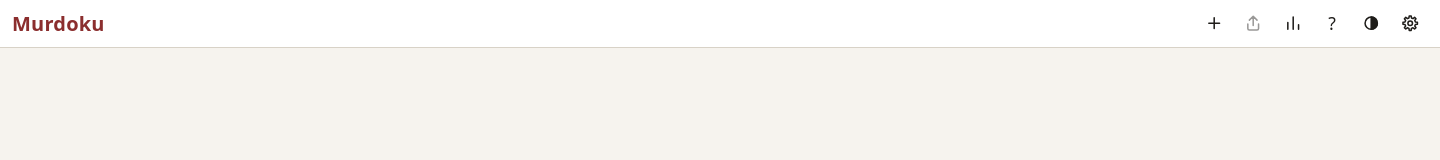
Test case: theme toggle › cycles system, light, dark, system through the store settings
The image size is (1440, 160).
Click the button with test id "theme-toggle" at (1371, 24), box [1354,6,1389,41]
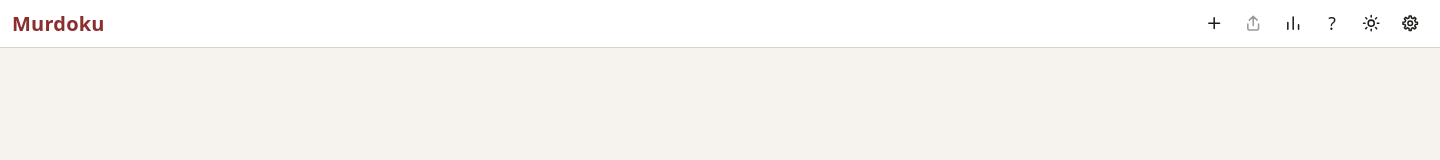
Click the button with test id "theme-toggle" at (1371, 24), box [1354,6,1389,41]
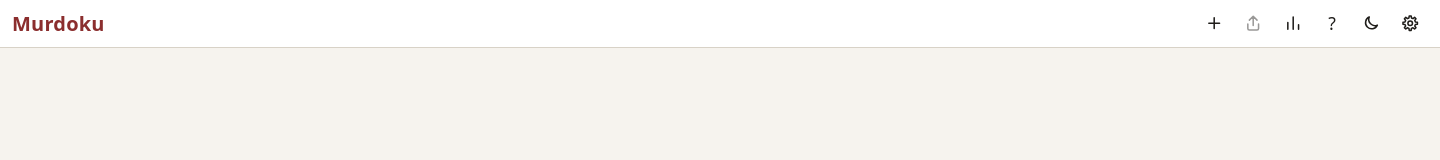
Click the button with test id "theme-toggle" at (1371, 24), box [1354,6,1389,41]
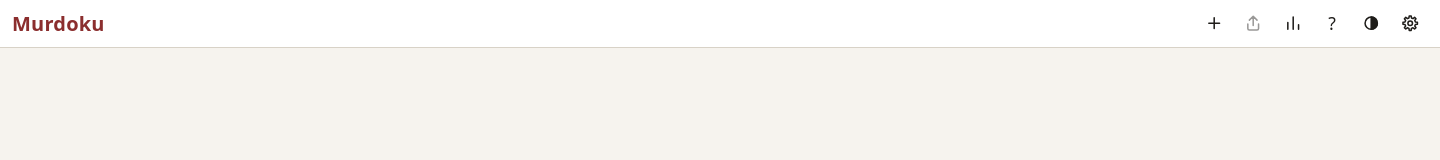
Click the button with test id "theme-toggle" at (1371, 24), box [1354,6,1389,41]
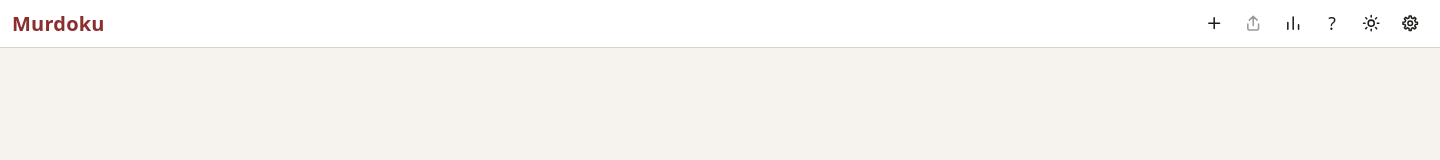
Check: the button with test id "theme-toggle" has attribute aria-label="Theme: Light (click for Dark)"
Click the button with test id "theme-toggle" at (1371, 24), box [1354,6,1389,41]
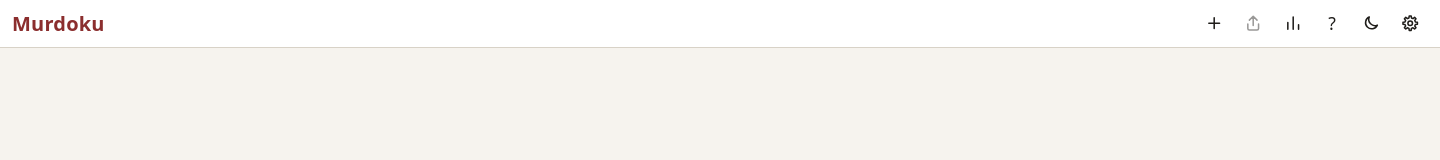
Check: the button with test id "theme-toggle" has attribute aria-label="Theme: Dark (click for System)", box [1354,6,1389,41]
